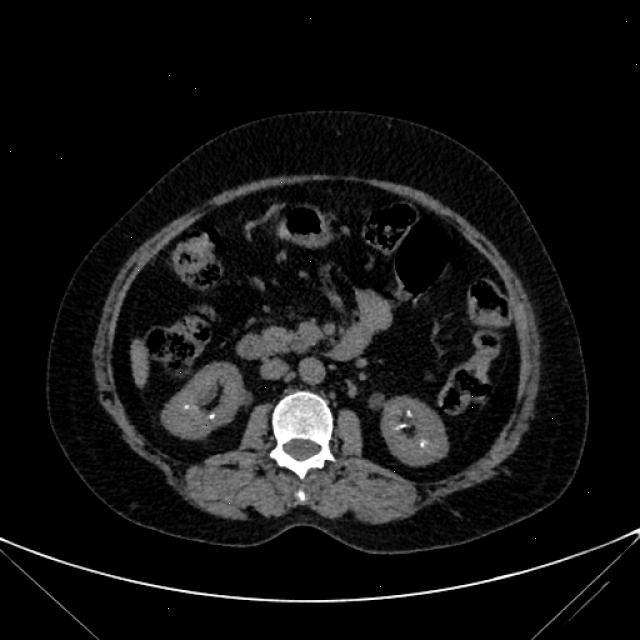kidneystone: (396, 424, 409, 433), (405, 409, 414, 417), (208, 412, 216, 419)
